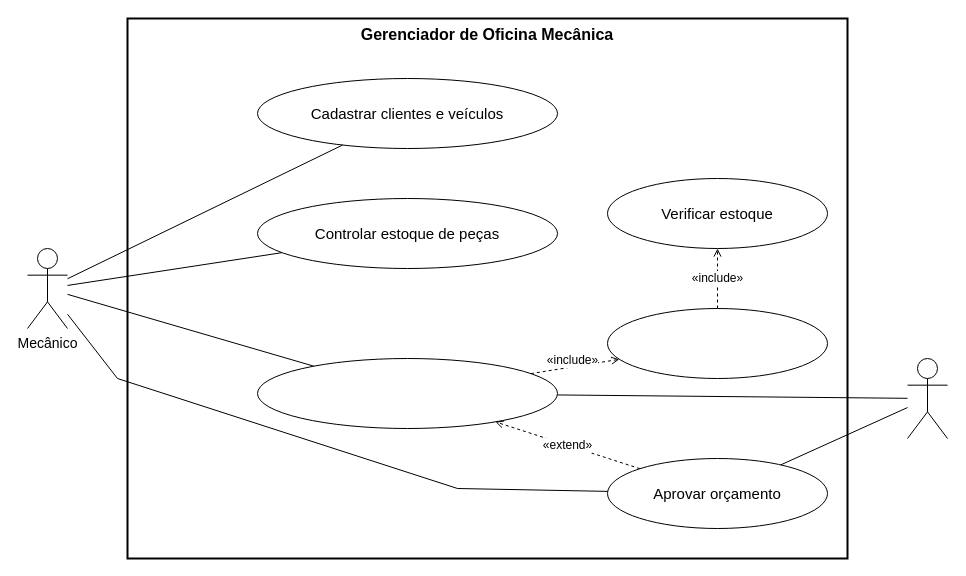
Image size: 966x576. Some labels were removed from this diagram. Each missing label, with the centre of its shape:
"Adicionar peças à ordem" goes at (x=717, y=343).
"Cliente" goes at (x=927, y=398).
"Gerenciar ordem de serviço" goes at (x=407, y=393).
